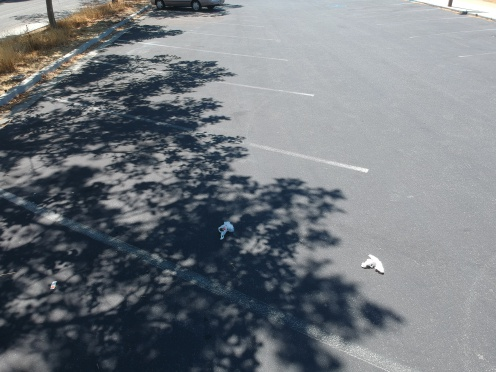plastic bag: (212, 215, 238, 242)
